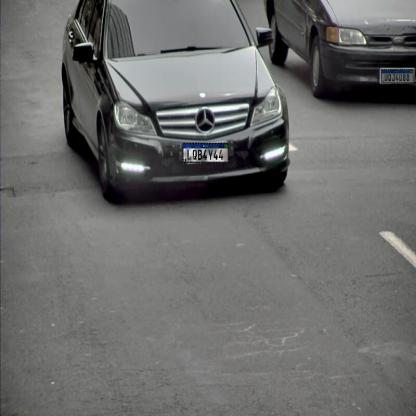PlacaM: (182, 143, 229, 163), (382, 70, 414, 84)
